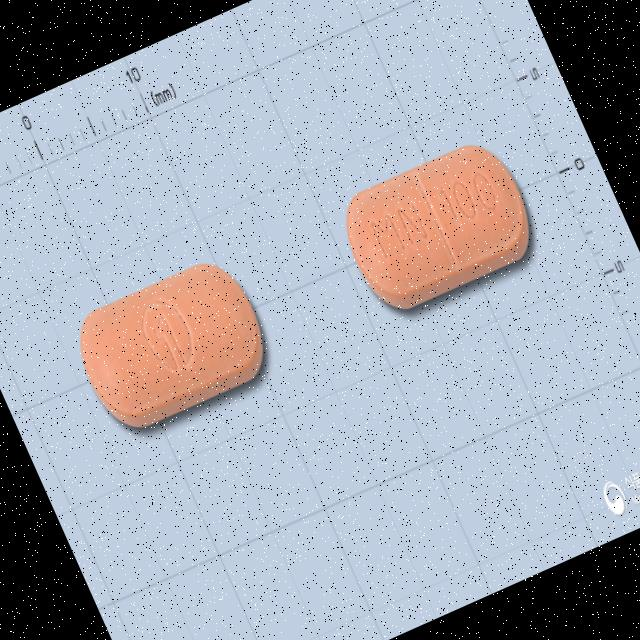Monocin: (332, 132, 548, 322), (64, 251, 279, 438)
